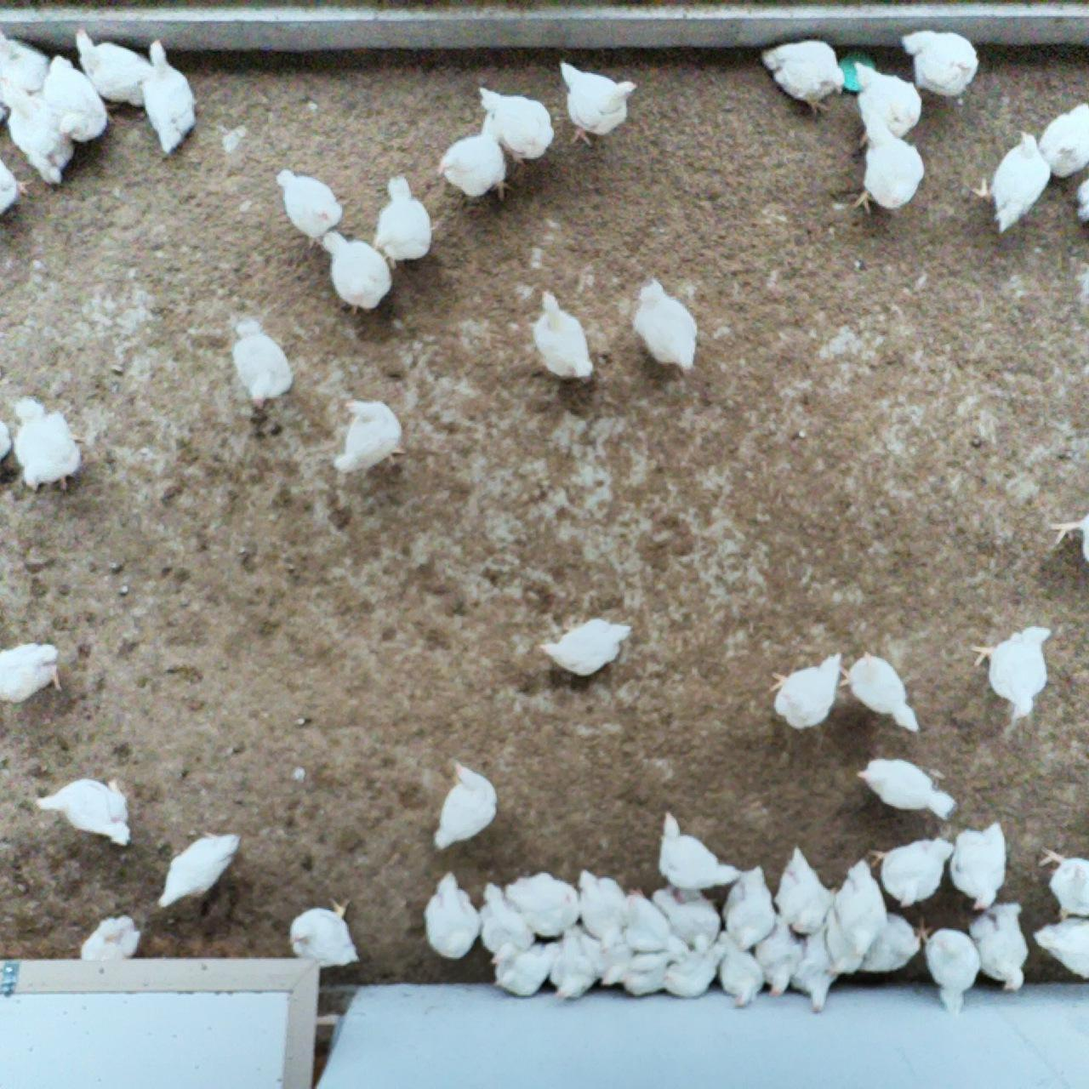chicken: (470, 84, 564, 177), (547, 56, 641, 146), (850, 110, 931, 212), (152, 828, 248, 914), (135, 38, 202, 157), (8, 399, 87, 494), (4, 90, 78, 191), (34, 51, 107, 153), (521, 287, 598, 383), (834, 647, 922, 731), (975, 131, 1048, 232), (323, 392, 411, 475), (973, 620, 1048, 717), (38, 773, 130, 852), (760, 42, 853, 120), (866, 829, 958, 907), (961, 888, 1032, 987), (847, 60, 924, 150), (654, 812, 742, 889), (71, 29, 152, 112), (430, 758, 504, 847), (913, 920, 980, 1016), (322, 225, 394, 314), (901, 26, 984, 103), (231, 319, 300, 411), (630, 281, 697, 373), (858, 757, 959, 818), (769, 651, 847, 728), (287, 893, 365, 968), (506, 869, 586, 942), (370, 176, 434, 267), (544, 614, 632, 679), (853, 909, 937, 977), (271, 167, 339, 249), (951, 822, 1010, 916), (432, 133, 512, 202), (771, 848, 831, 936), (837, 859, 894, 949), (0, 637, 70, 707), (1033, 96, 1089, 180), (485, 936, 560, 998), (724, 863, 780, 946), (787, 929, 841, 1015), (478, 879, 530, 965), (0, 31, 56, 110), (755, 910, 801, 1003), (575, 870, 626, 946), (604, 946, 677, 999), (665, 893, 722, 956), (660, 945, 724, 1001), (817, 902, 867, 973), (547, 925, 593, 999), (79, 911, 144, 963), (1041, 845, 1089, 915), (718, 940, 765, 1010), (1033, 917, 1089, 975), (617, 889, 665, 953), (1047, 505, 1089, 572), (582, 935, 630, 992), (649, 878, 703, 917), (0, 160, 26, 221), (1072, 171, 1089, 225)
